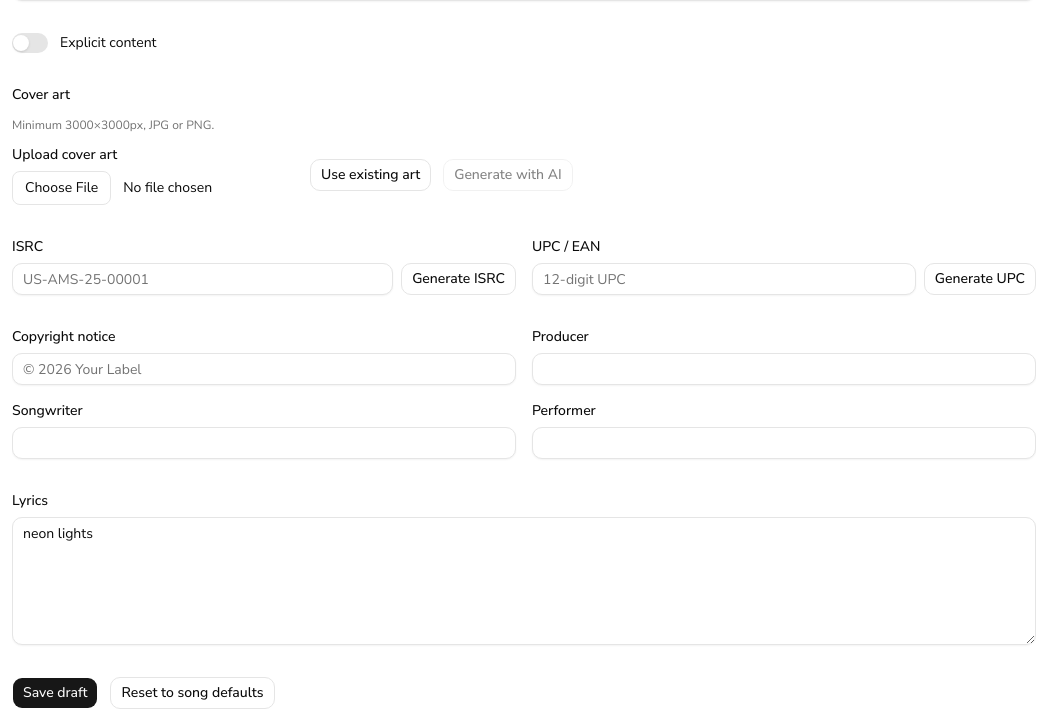
Test case: DistributionForm › keeps a live validation summary count of remaining required fields
(page scrolled)
Click the button "Save draft" at [55, 693], box [12,677,98,708]
(page scrolled)
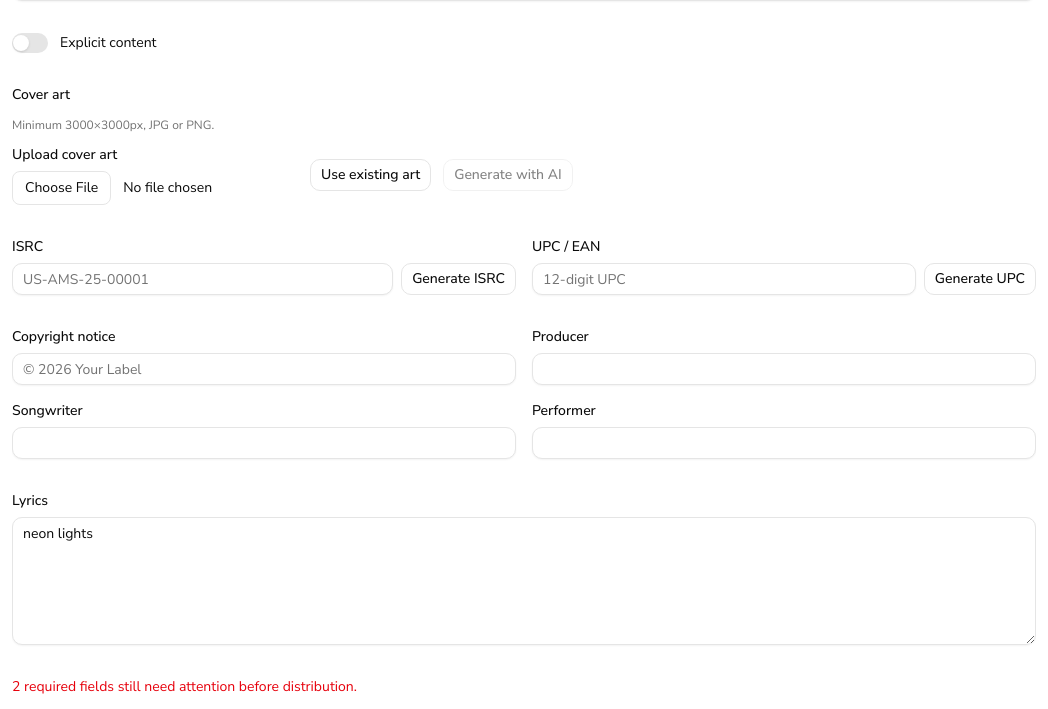
Now the text "2 required fields still need attention before distribution." is shown, box [12,677,357,696]
